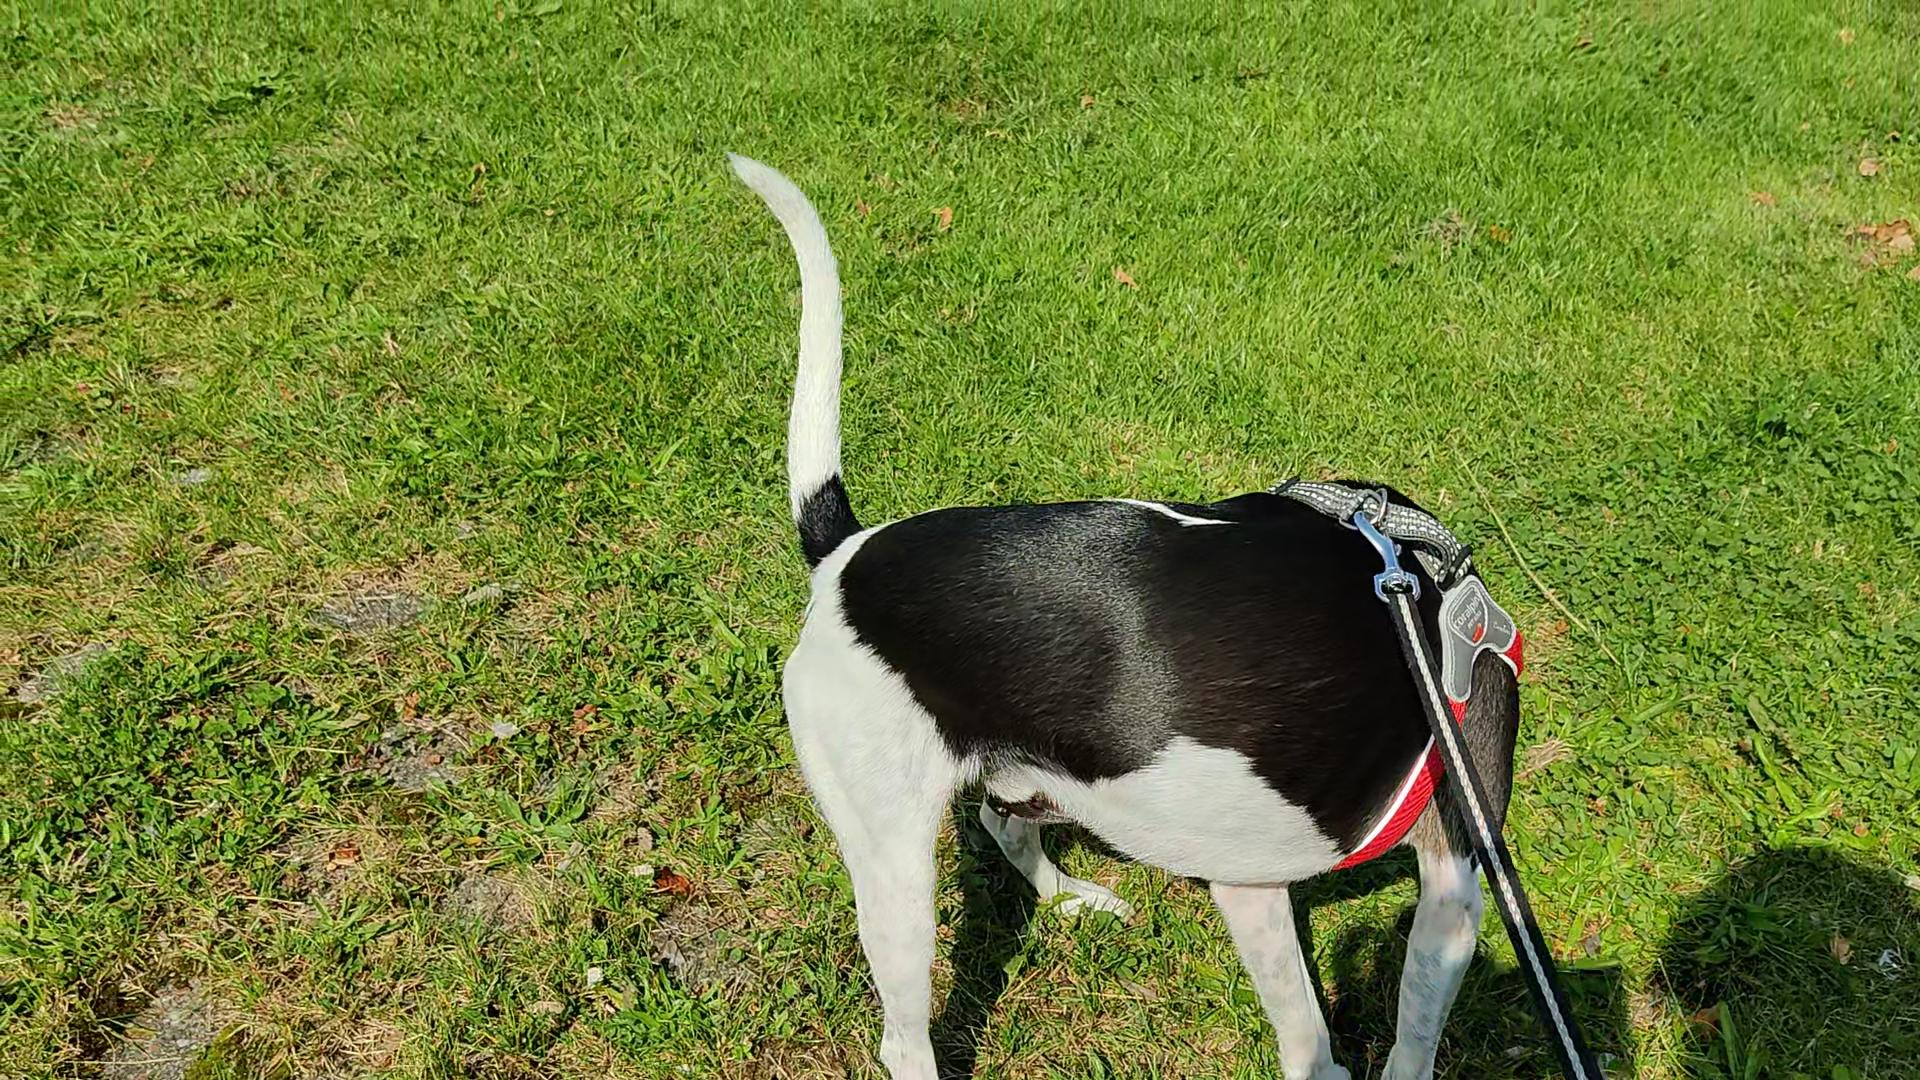Dog: (717, 140, 1538, 1079)
